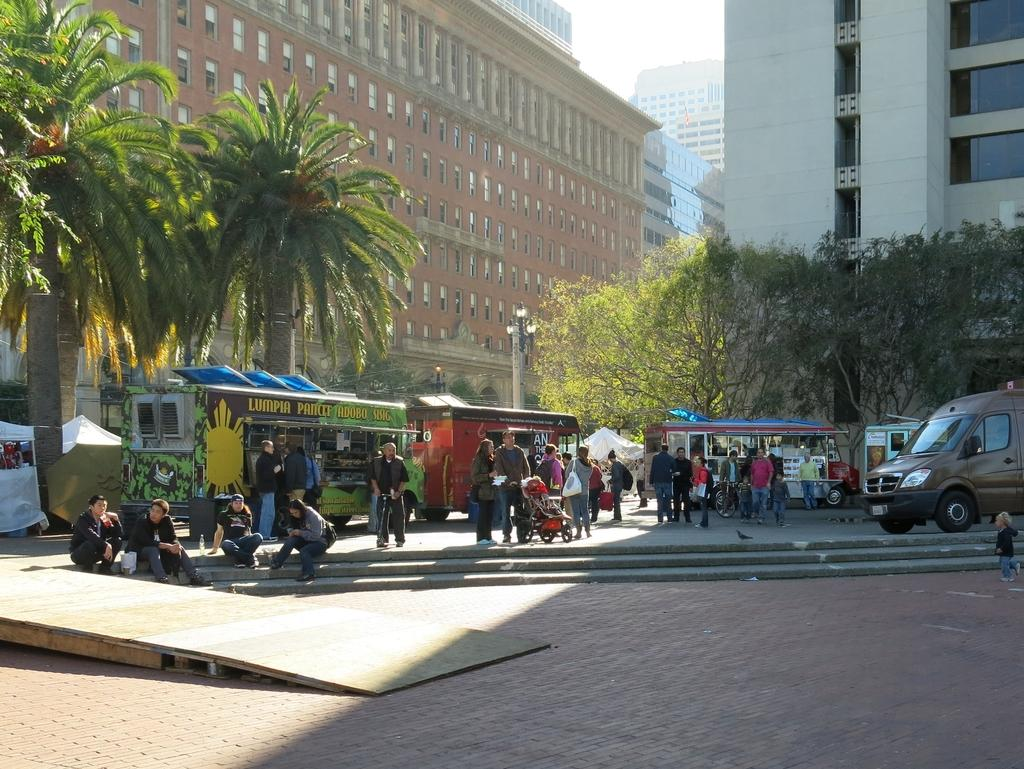vehicle: (862, 387, 1024, 531)
